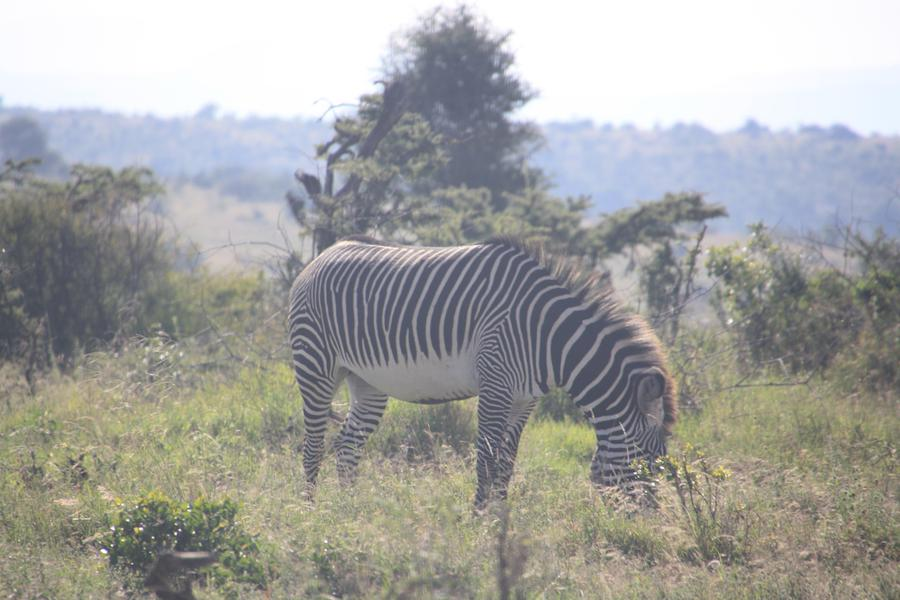zebra_grevys: (263, 217, 523, 399)
